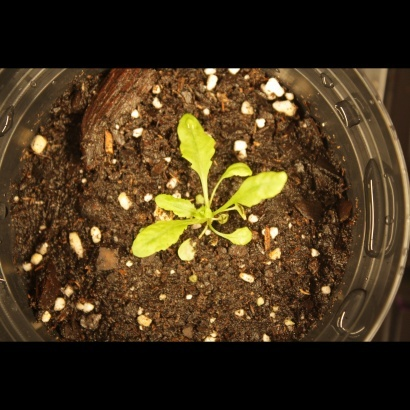leaf: (169, 106, 219, 179), (128, 218, 194, 261), (233, 164, 300, 206), (151, 191, 199, 217), (221, 151, 253, 183), (178, 233, 206, 266), (230, 223, 260, 249), (230, 199, 253, 222), (193, 200, 216, 223)
